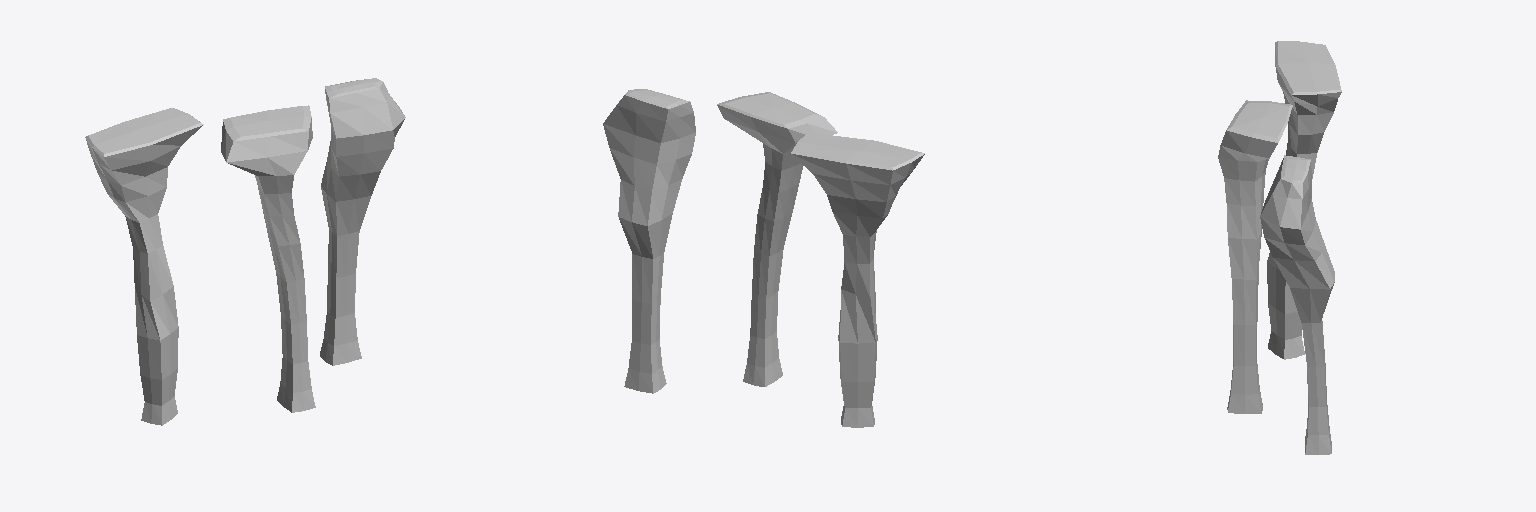
The model's file is Rock6_mod.obj.
3 renders of one model, left to right at view 1: azimuth 30°, elevation 25°; view 2: azimuth 150°, elevation 25°; view 3: azimuth 270°, elevation 25°, orthographic.
Visible parts, largest first — view 1: Cube.002; view 2: Cube.002; view 3: Cube.002.
Part boxes in pixels (left/top/right/bottom): Cube.002: left=85, top=78, right=405, bottom=425; Cube.002: left=603, top=89, right=924, bottom=427; Cube.002: left=1218, top=41, right=1341, bottom=454.
Bounding box in the file's own units: 37.28 × 32.48 × 12.93.